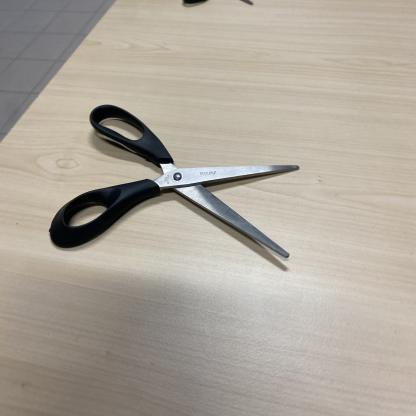scissors: (48, 102, 300, 260)
